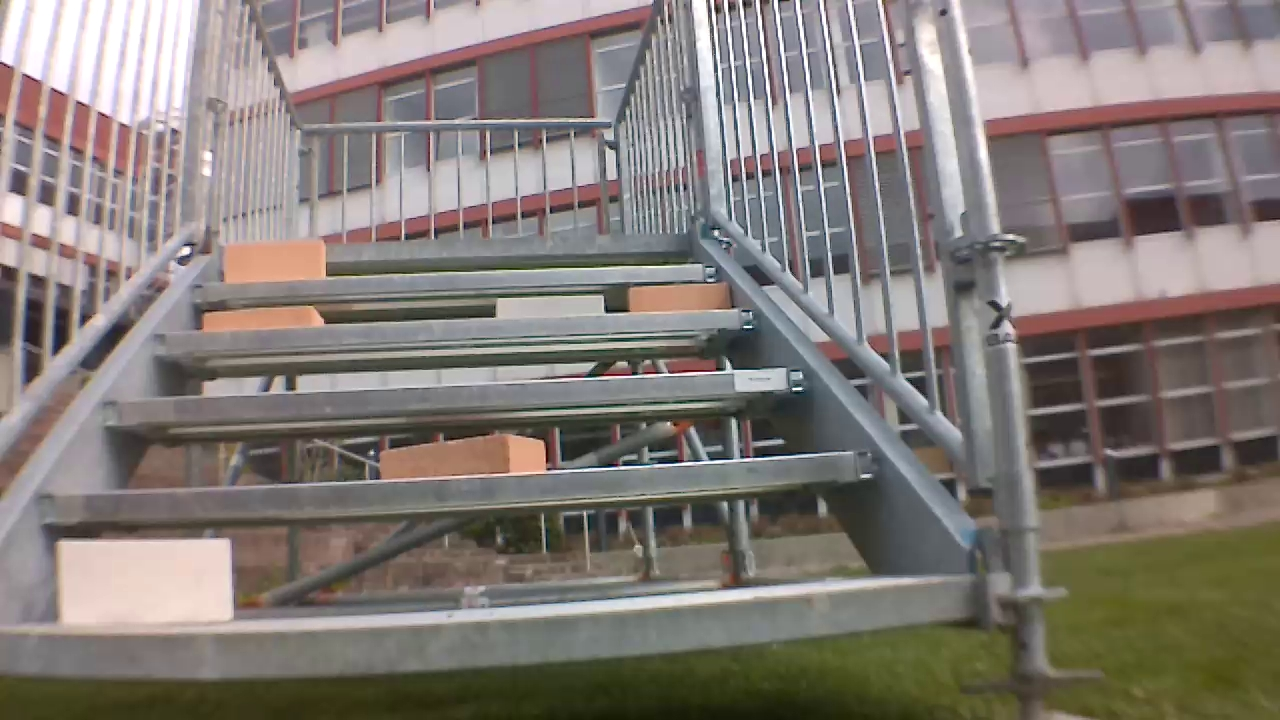brick: (57, 539, 231, 623), (380, 433, 545, 479), (224, 240, 326, 281), (629, 284, 730, 312), (203, 305, 322, 328), (496, 296, 605, 319)
edge: (2, 578, 980, 676), (35, 451, 874, 519), (102, 367, 808, 421), (151, 309, 755, 350), (189, 264, 719, 296), (217, 234, 694, 259)
stairs: (5, 5, 1074, 715)
steps: (3, 229, 985, 688)
